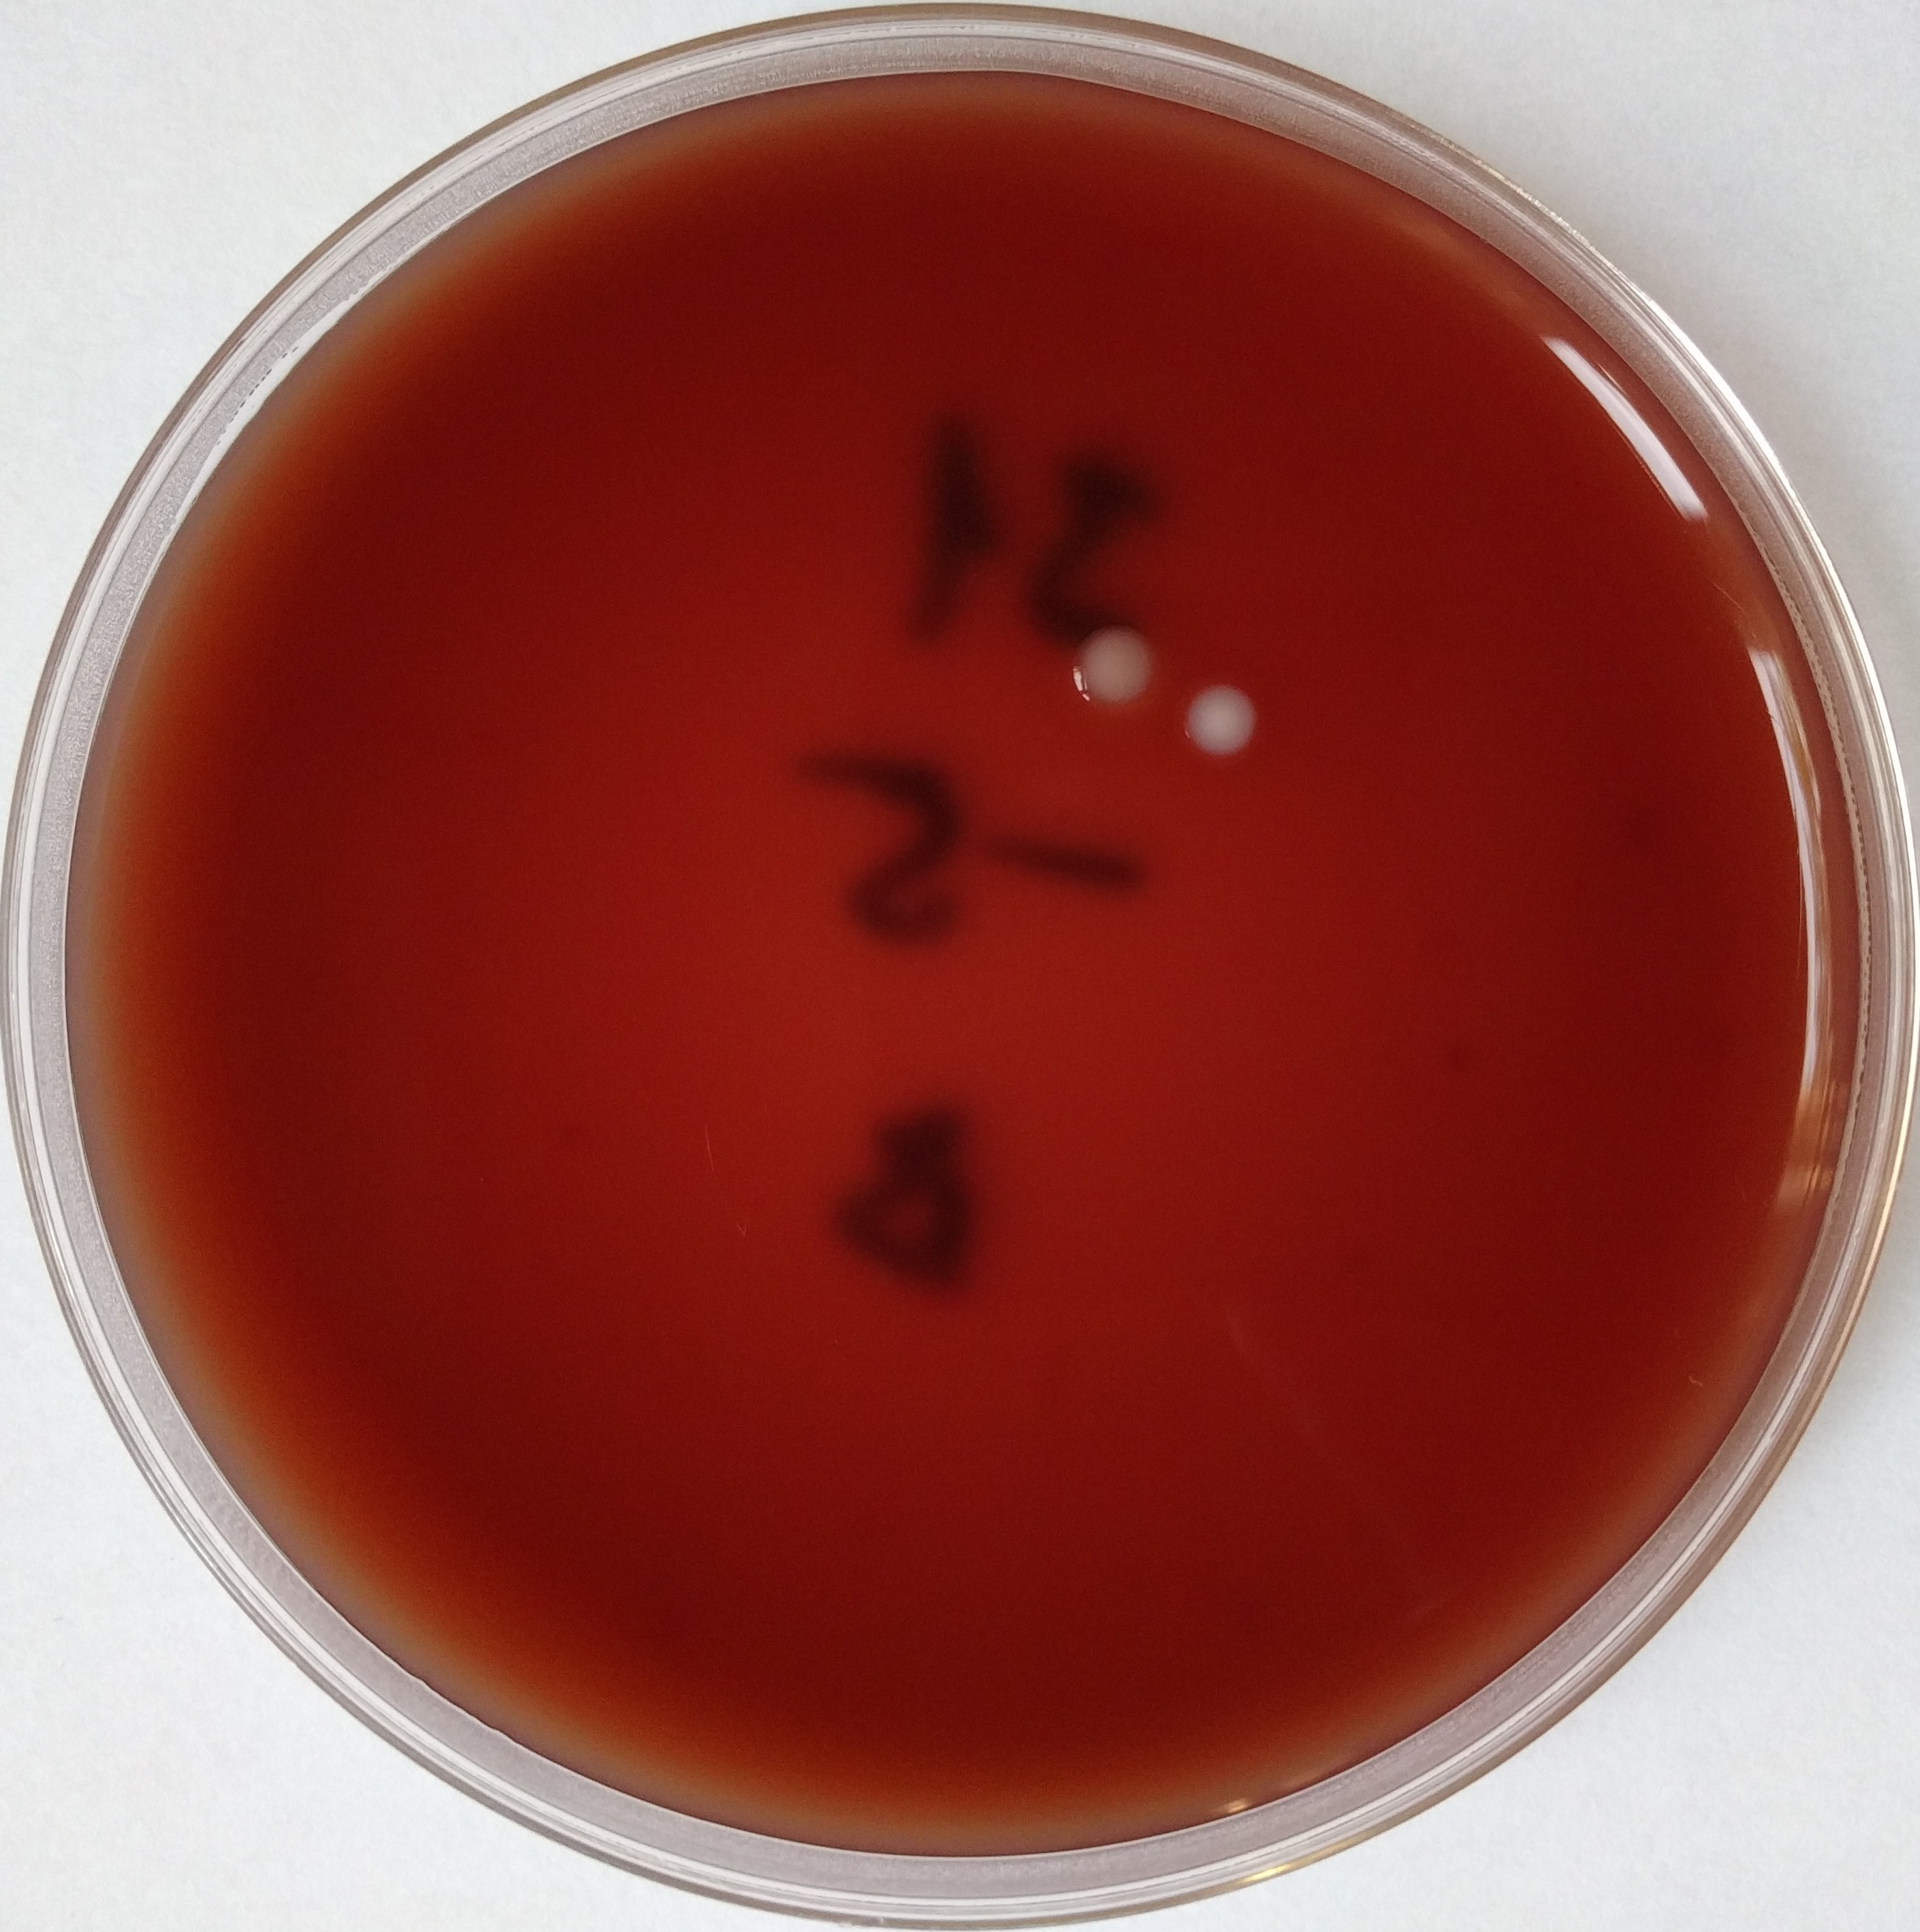sp03: (1043, 606, 1175, 738), (1176, 680, 1269, 789)
